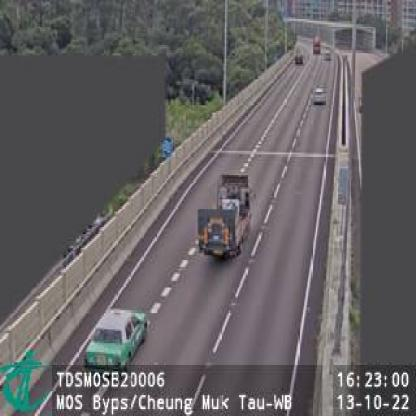Car: (82, 304, 148, 372), (312, 85, 325, 103)
Truck: (196, 173, 256, 259)
